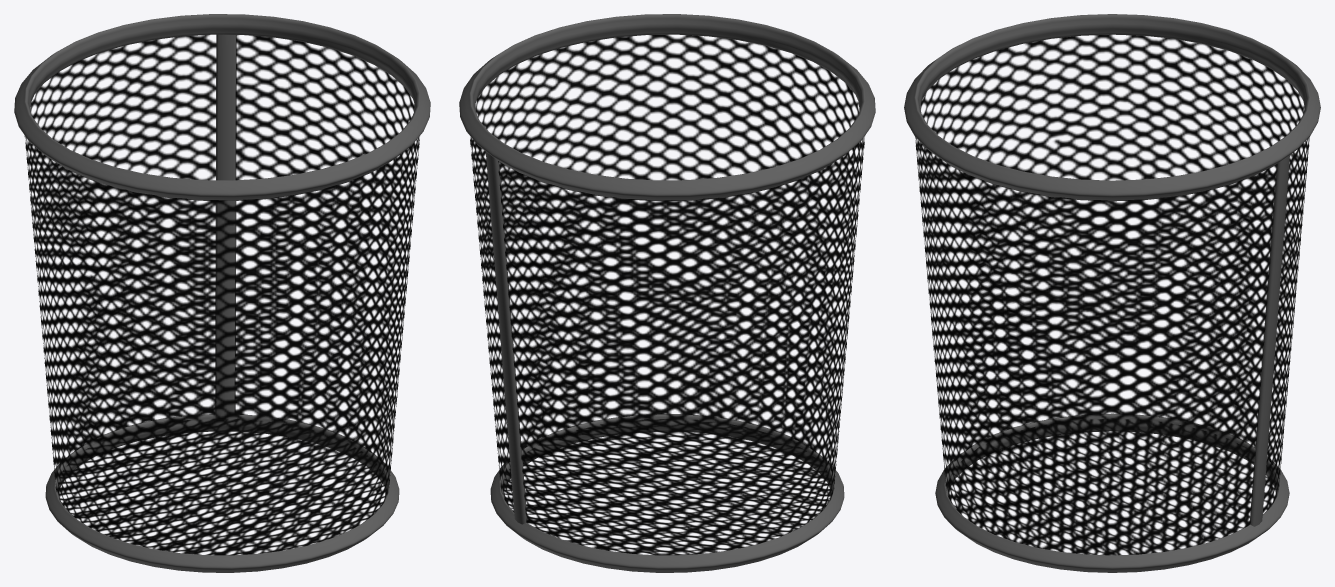
Rendered from office_bin.glb.
3 views of the same model, side by side, from view 1: azimuth 30°, elevation 25°; view 2: azimuth 150°, elevation 25°; view 3: azimuth 270°, elevation 25° (orthographic).
Parts seen in each view (by area): view 1: Office_Bin; view 2: Office_Bin; view 3: Office_Bin.
Part boxes in pixels (<box>): Office_Bin: <box>14,14,430,572</box>; Office_Bin: <box>459,14,875,572</box>; Office_Bin: <box>904,14,1320,572</box>.
Bounding box in the file's own units: 2.47 × 2.65 × 2.47.
2 materials, 1 textured.
